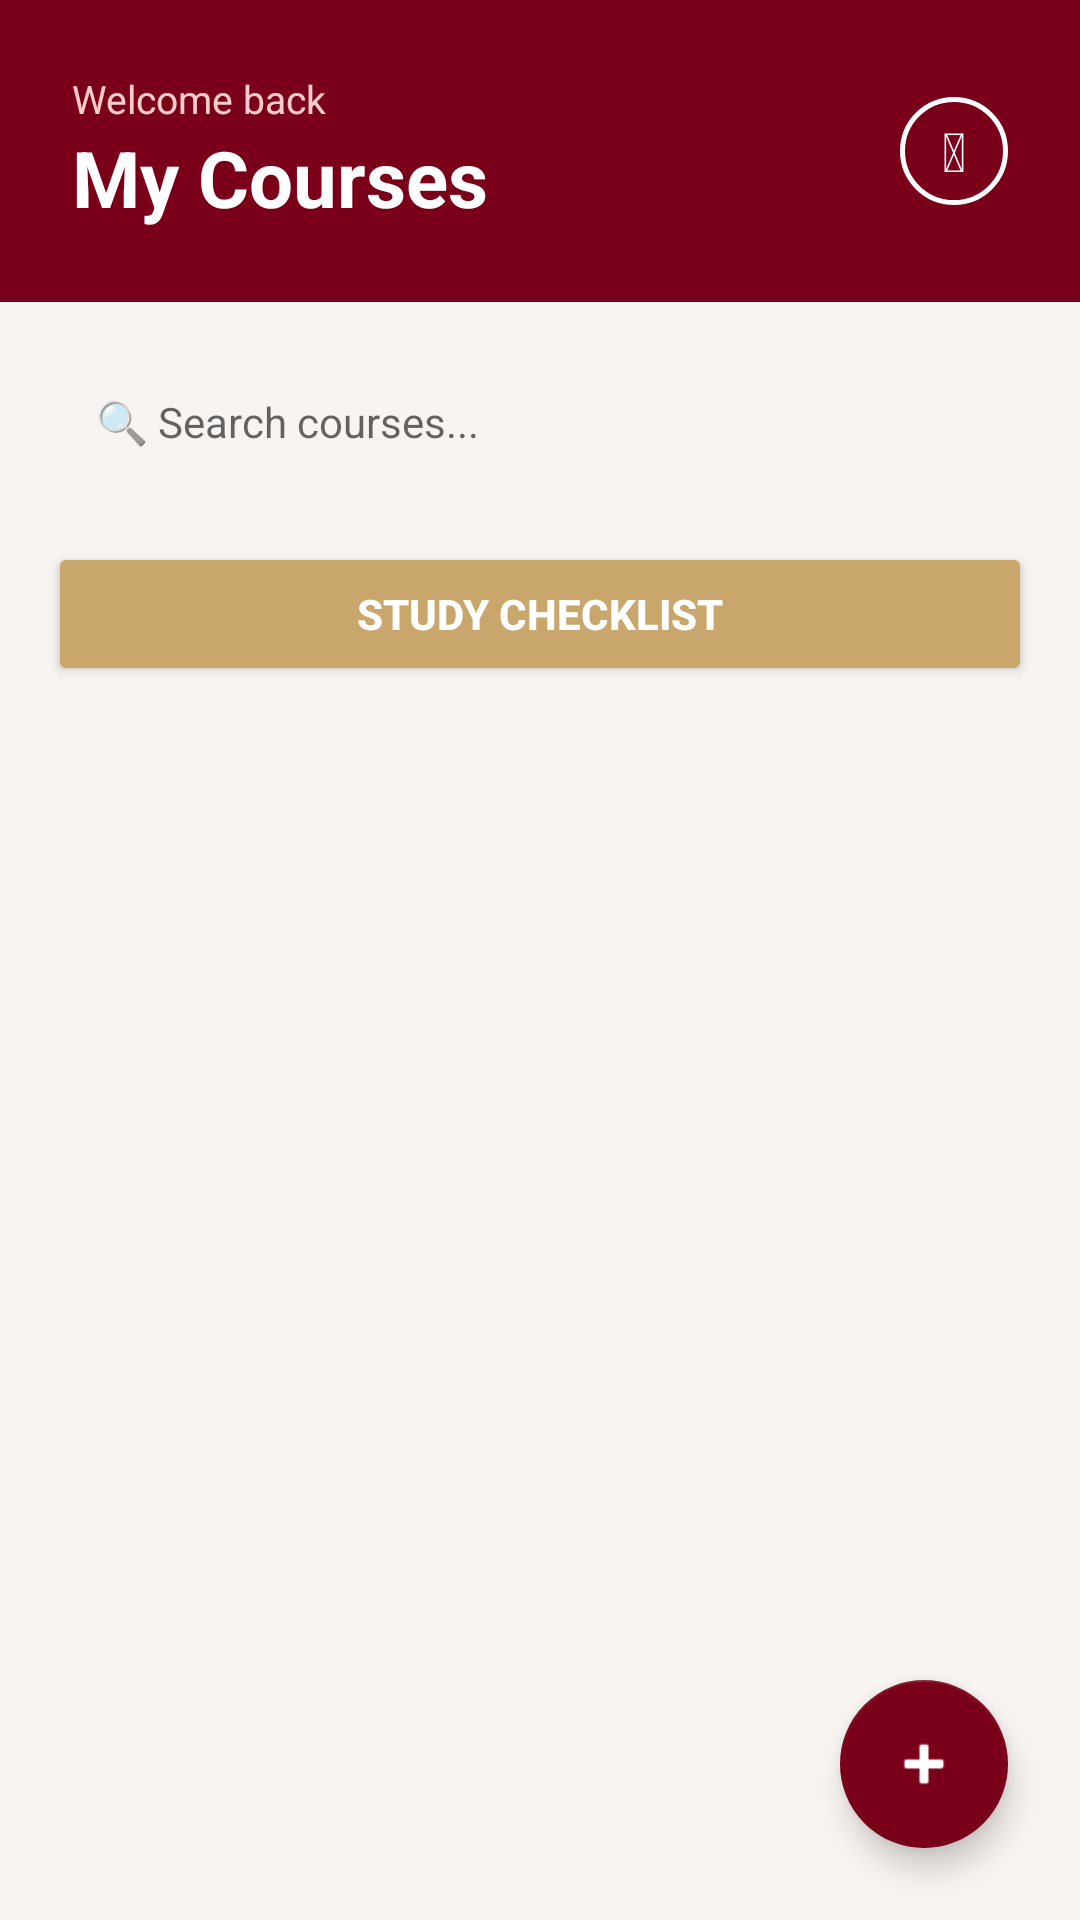

Named icons in this screenshot (1080×1920) and their centers, (x=x, y=y):
Add Course: (x=924, y=1764)
